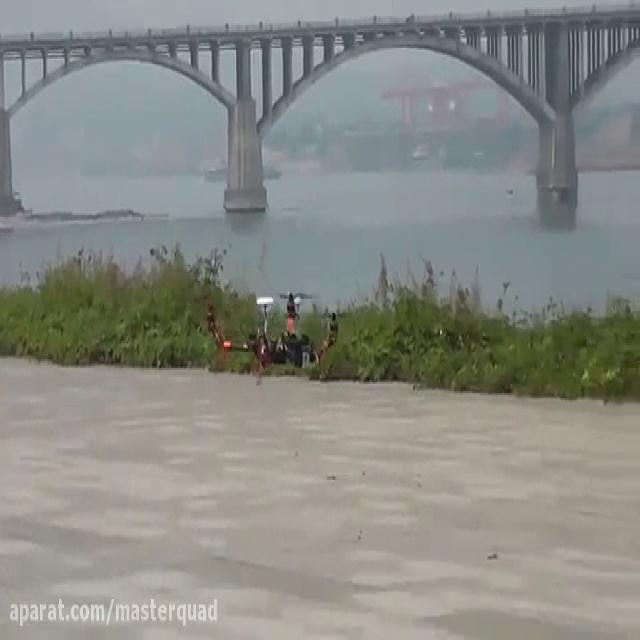drone: (195, 286, 348, 388)
